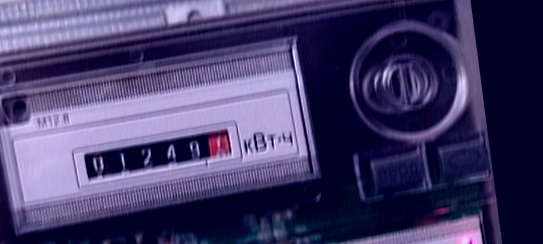0: (91, 153, 107, 174)
1: (116, 150, 128, 170)
2: (140, 146, 155, 168)
4: (164, 142, 178, 163)
7: (211, 131, 226, 151)
9: (187, 139, 203, 162)
screen: (64, 122, 243, 189)
